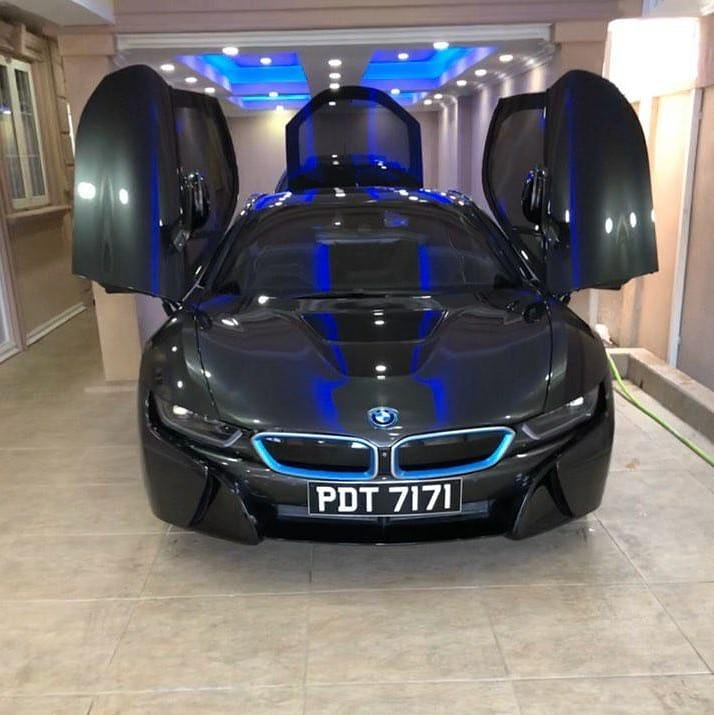License-Plate: (309, 483, 456, 513)
